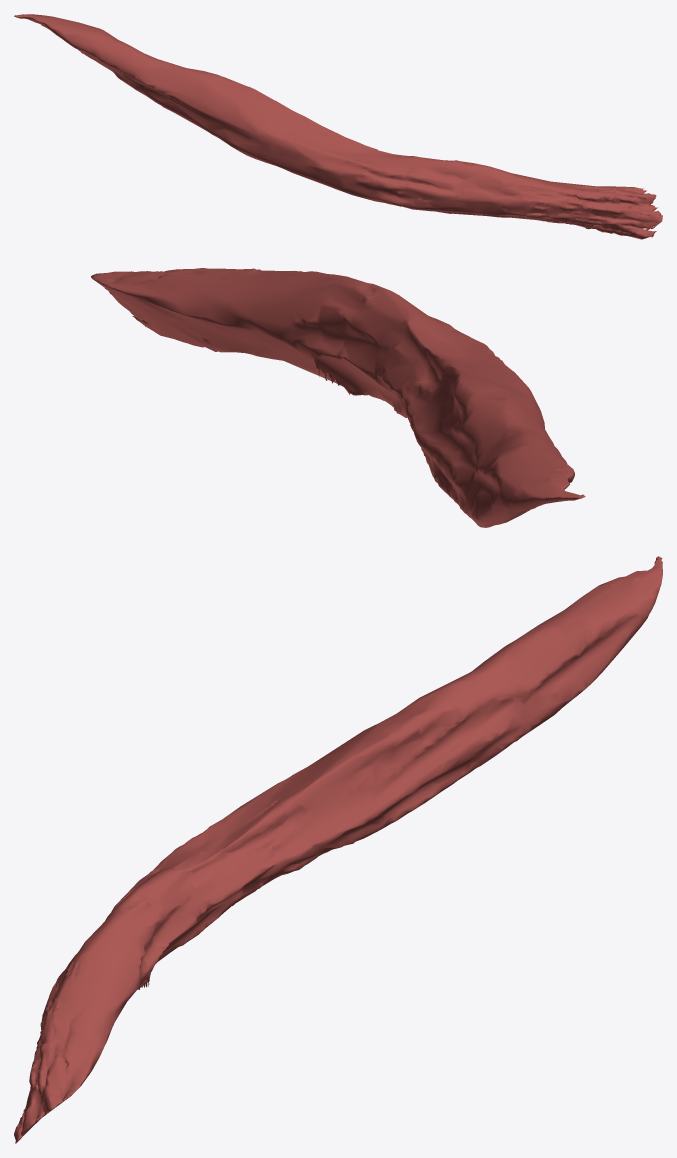
Rendered from FMA13412.glb.
The picture shows the model from 3 angles, top to bottom: view 1: azimuth 30°, elevation 25°; view 2: azimuth 150°, elevation 25°; view 3: azimuth 270°, elevation 25°; orthographic projection. The views are drawn at different scales.
Visible parts, largest first — view 1: FMA13412; view 2: FMA13412; view 3: FMA13412.
Boxes of the visible parts, x1,y1,x2,y2 form: FMA13412: (14,14,662,239); FMA13412: (91,268,585,527); FMA13412: (14,556,662,1143).
Bounding box in the file's own units: 0.0726 × 0.0271 × 0.0596.
